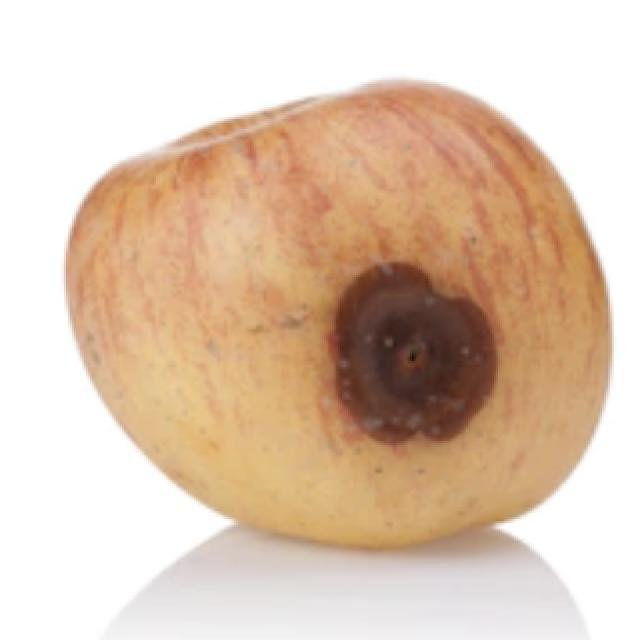Rotten: (100, 80, 580, 525)
